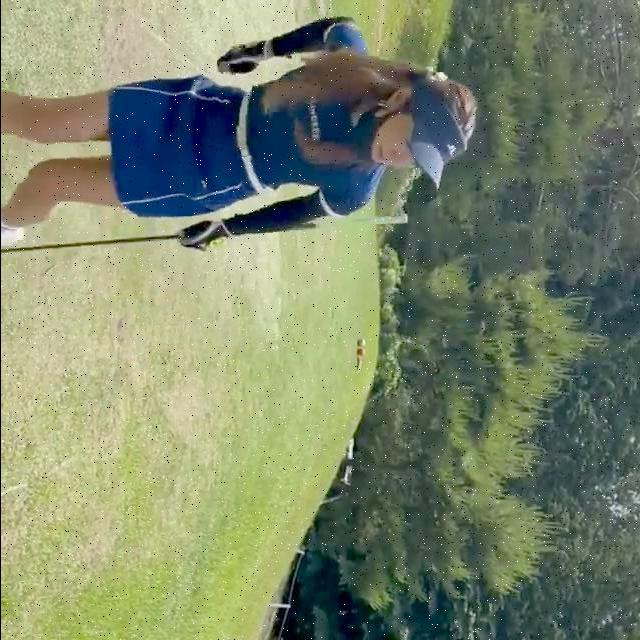golf club-handle: (0, 214, 407, 254)
